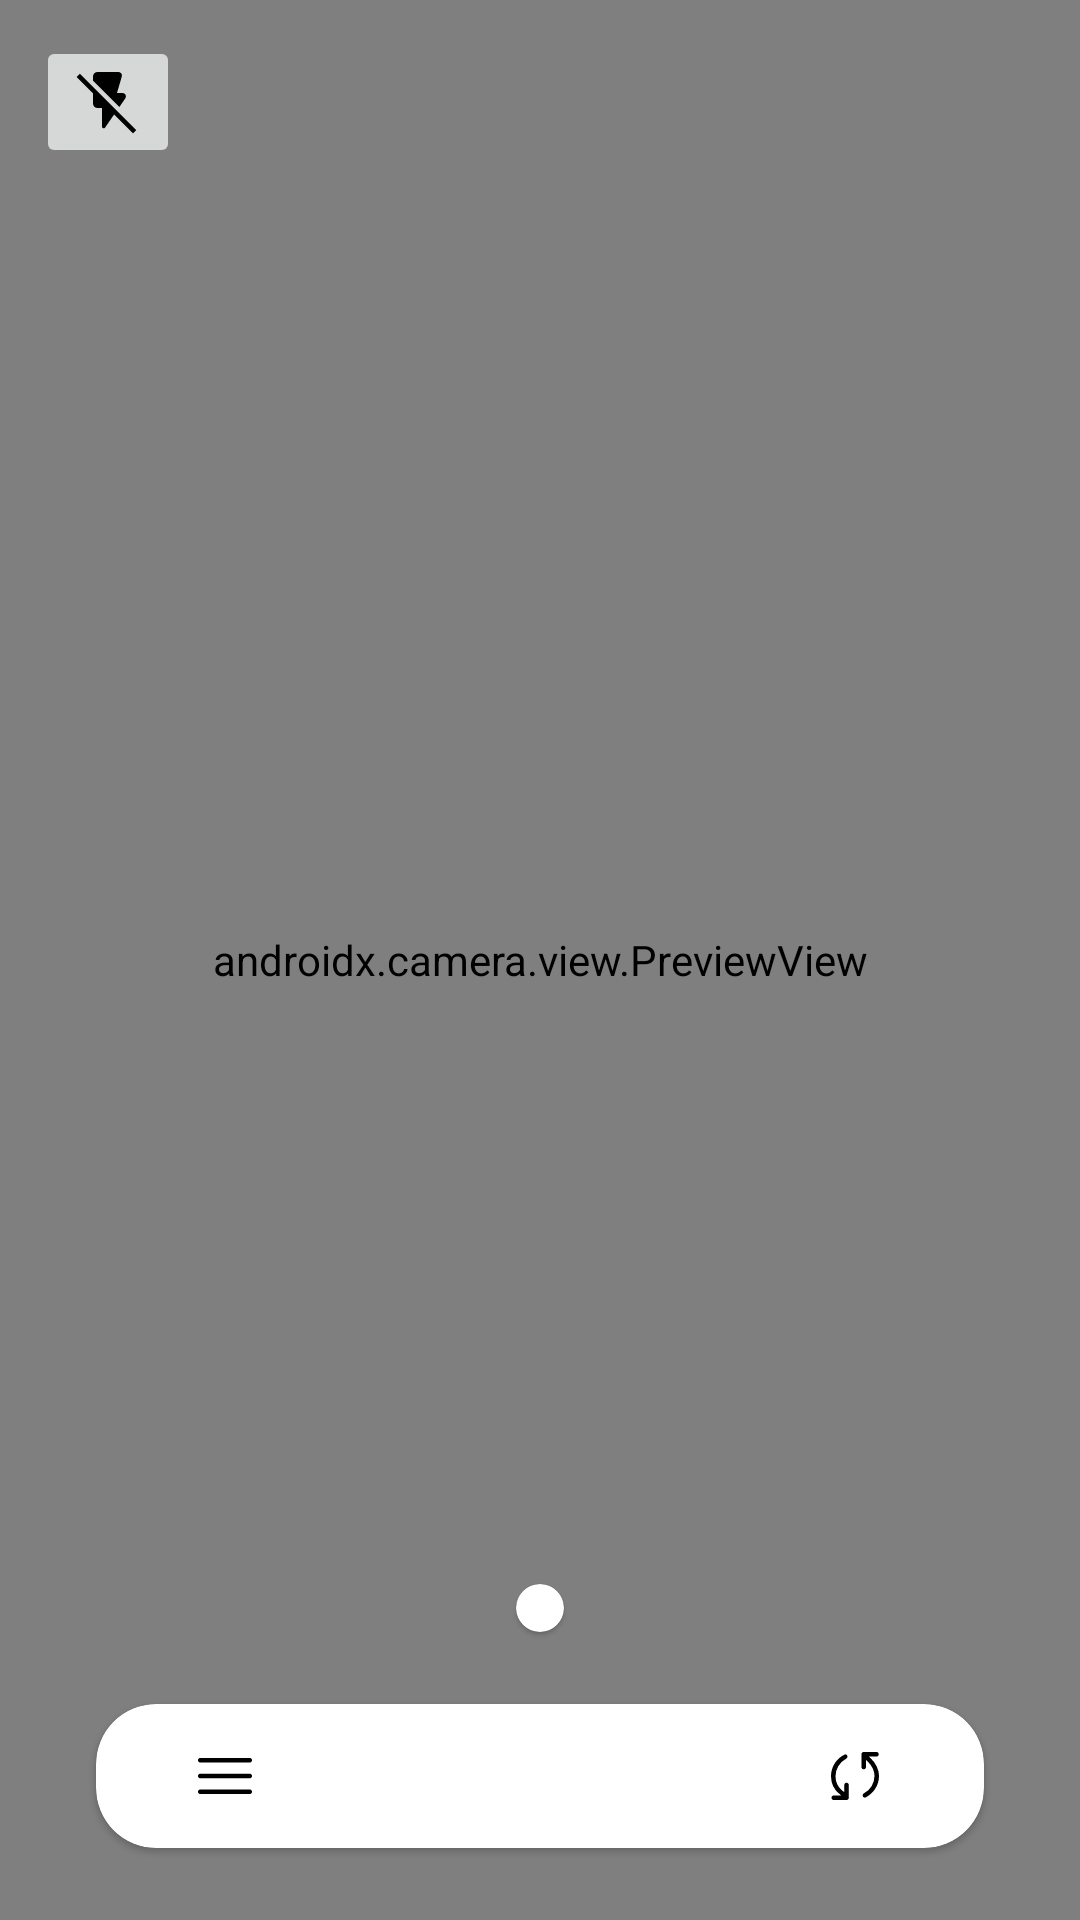

Screen size 1080 × 1920. Icon name, then its center in pixels as (x,y):
flash off: (108,102)
menu: (225,1776)
sync: (855,1776)
